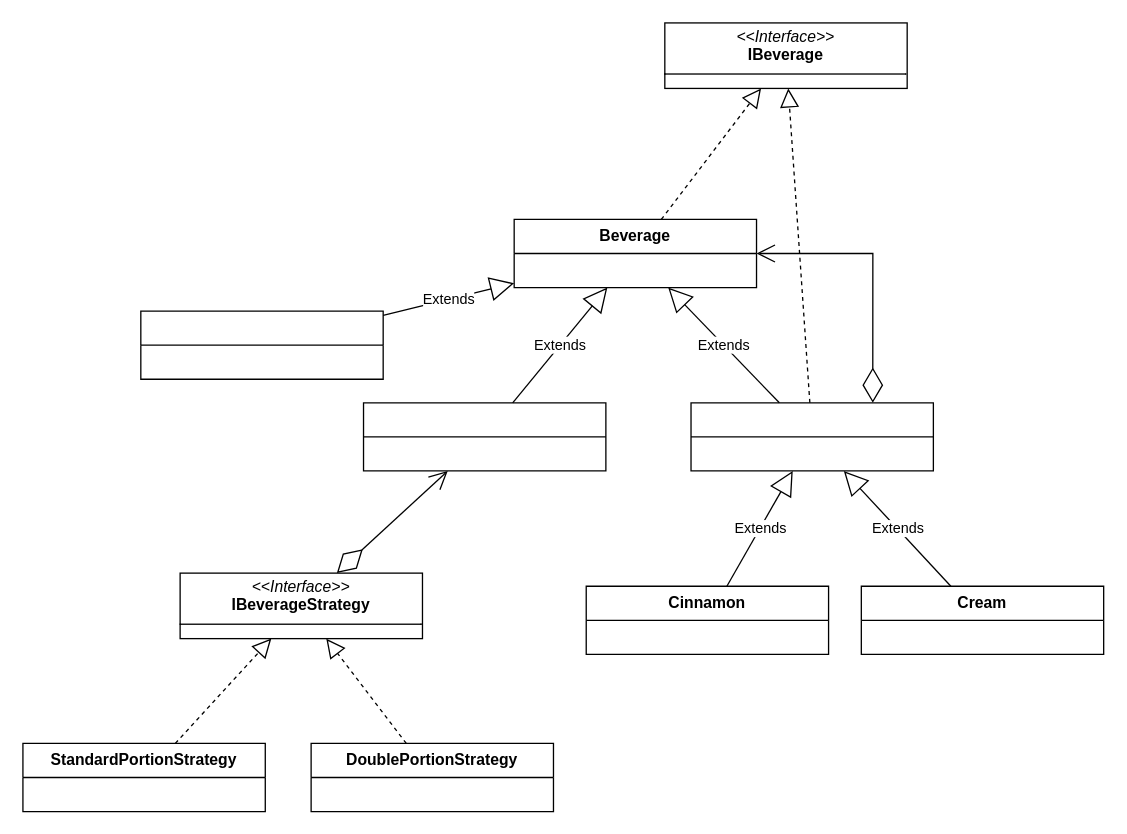
Some shapes in this 1127 by 834 pixel diagram are drawn without their labels. The shapes that lost their labels are listed below. From the top down, each one's centre as x and y in pixels, then its label:
point (261, 344): Tea
point (484, 436): Coffee
point (811, 436): CondimentDecorator
